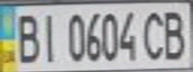0: (63, 9, 84, 63), (100, 8, 121, 62)
4: (118, 7, 142, 62)
6: (84, 8, 103, 62)
B: (157, 6, 193, 61), (9, 9, 42, 64)
C: (139, 7, 172, 61)
I: (36, 9, 60, 64)
